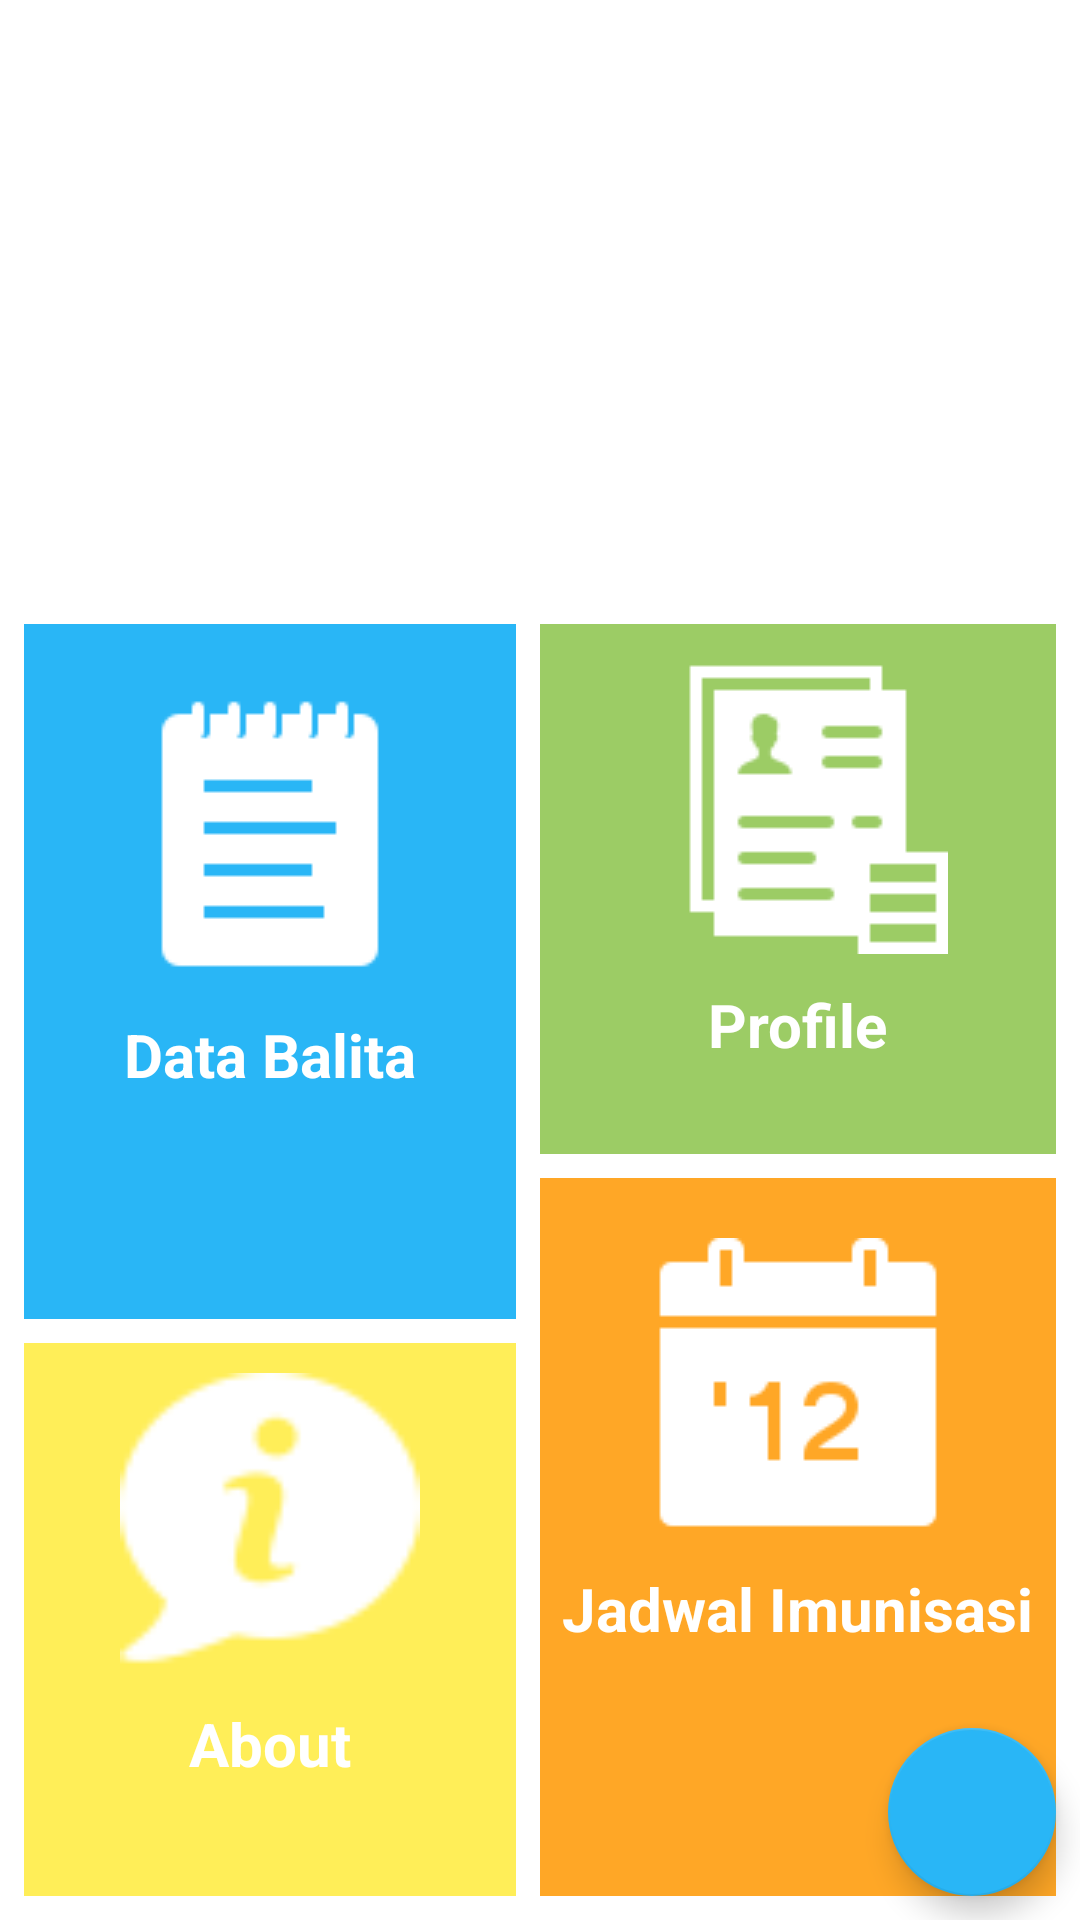

Named icons in this screenshot (1080px x 1920px) and their centers, (x,y):
calender: (798,1382)
